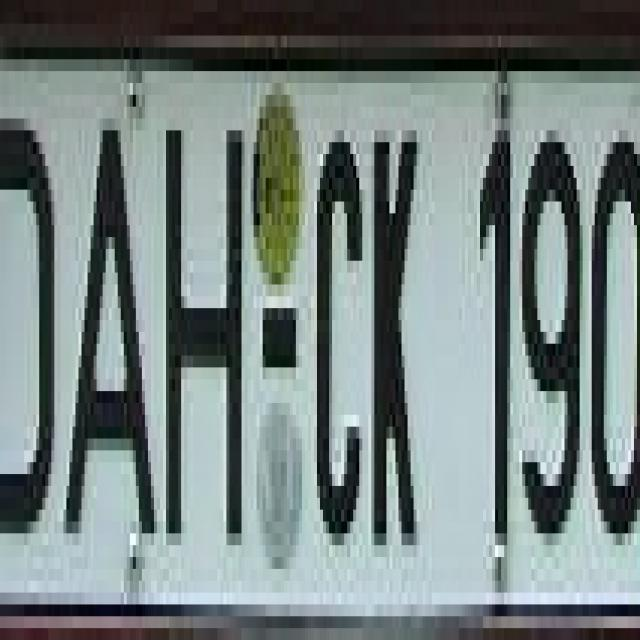0: (588, 118, 640, 545)
1: (474, 107, 513, 569)
9: (519, 130, 586, 546)
A: (63, 119, 154, 557)
C: (305, 95, 362, 581)
H: (163, 107, 242, 557)
K: (365, 107, 420, 569)
